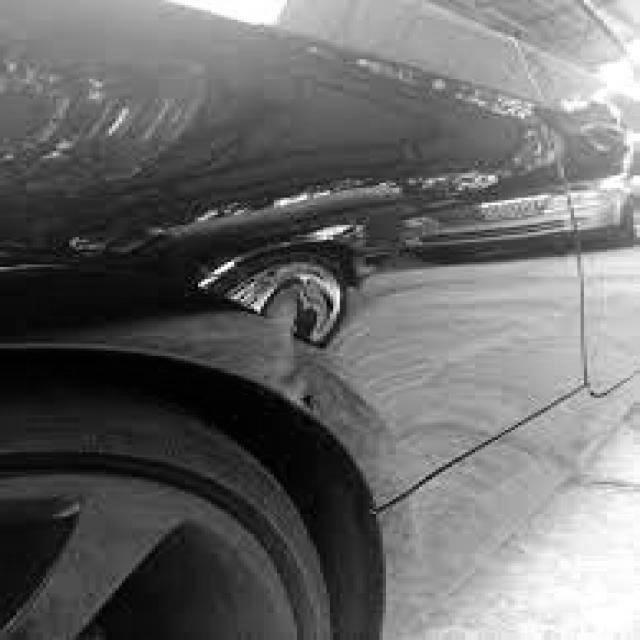quaterpanel-dent: (3, 5, 547, 524)
